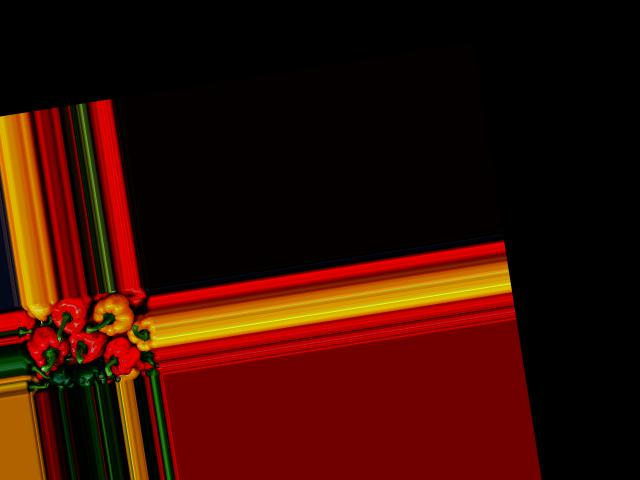bell_pepper: (26, 300, 52, 322)
